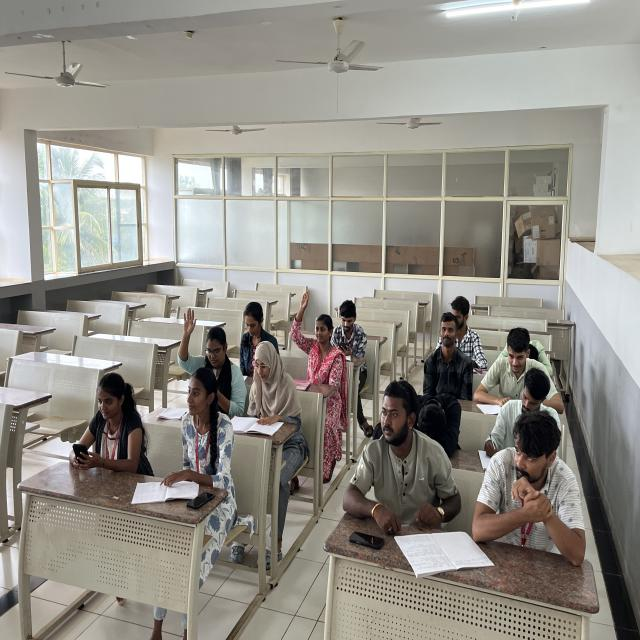Hand Rising: (281, 280, 364, 420), (167, 301, 250, 414)
Reading: (238, 340, 320, 492), (482, 374, 581, 482)
Sleeping: (400, 362, 479, 465)
Using Phone: (68, 361, 170, 497), (329, 294, 384, 378)
